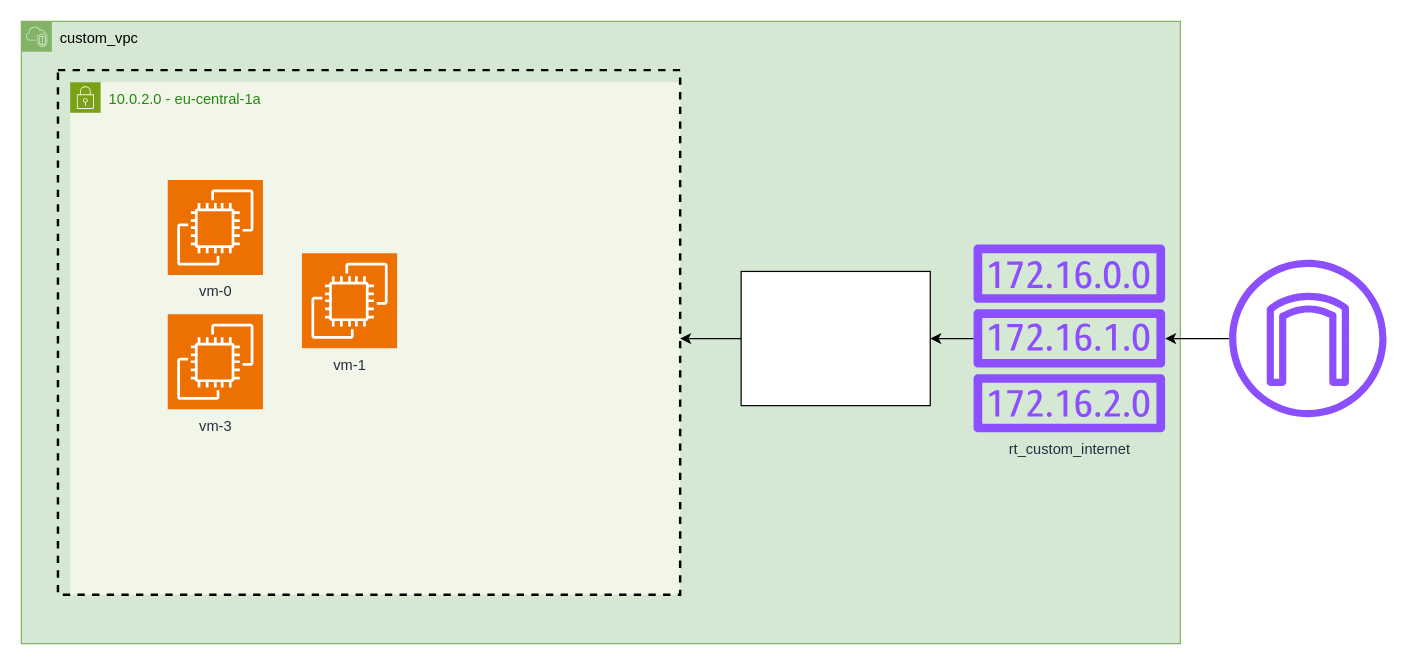
Some shapes in this 1408 by 665 pixel diagram are drawn without their labels. Each missing label, with the box of its shape:
ig_custom: (1229, 259, 1386, 417)
Network ACL: (740, 270, 930, 406)
sg_custom: (56, 68, 681, 595)
